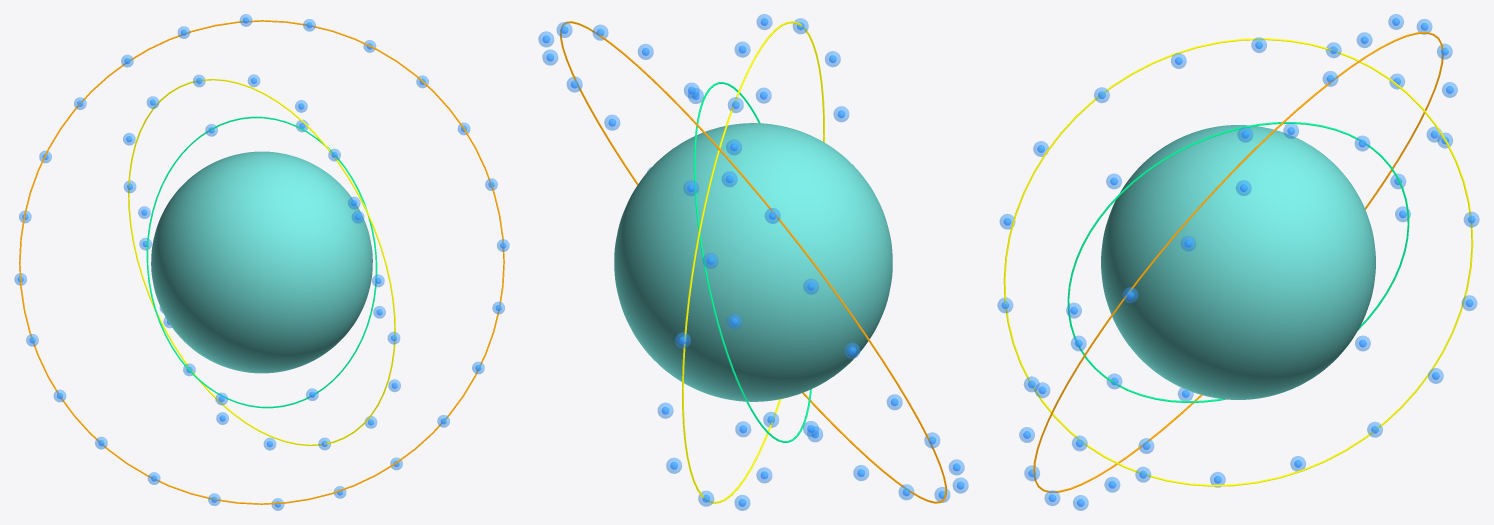
3 renders of one model, left to right at view 1: azimuth 30°, elevation 25°; view 2: azimuth 150°, elevation 25°; view 3: azimuth 270°, elevation 25°, orthographic. The views are drawn at different scales.
Parts seen in each view (by area): view 1: Te, object 61, object 24, object 7; view 2: Te, object 61, object 24, object 7; view 3: Te, object 24, object 61, object 7.
Boxes of the visible parts, box(x1,y1,x2,y2) form: Te: box(151, 151, 372, 373); object 61: box(19, 20, 504, 504); object 24: box(128, 79, 395, 445); object 7: box(146, 116, 377, 408); Te: box(614, 123, 892, 401); object 61: box(560, 21, 946, 503); object 24: box(682, 21, 824, 503); object 7: box(693, 82, 811, 442); Te: box(1101, 125, 1375, 399); object 24: box(1003, 38, 1473, 486); object 61: box(1033, 32, 1443, 492); object 7: box(1067, 122, 1409, 402).
Bounding box in the file's own units: 5.48 × 5.52 × 4.82.
